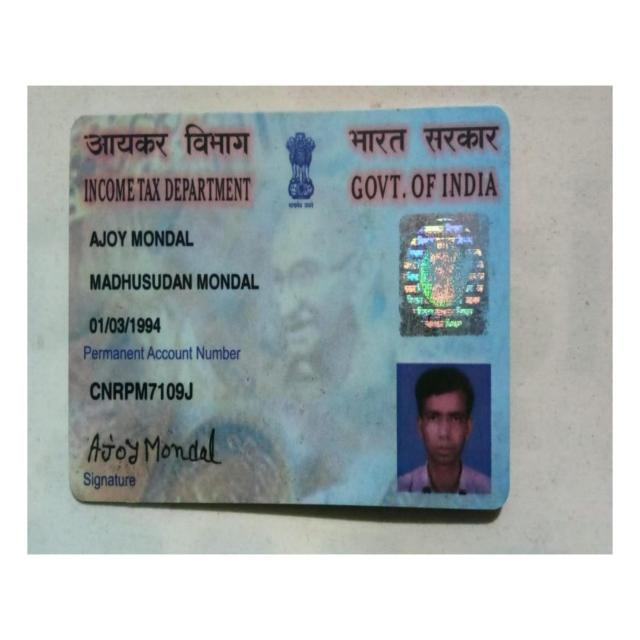pan_card: (72, 110, 506, 503)
